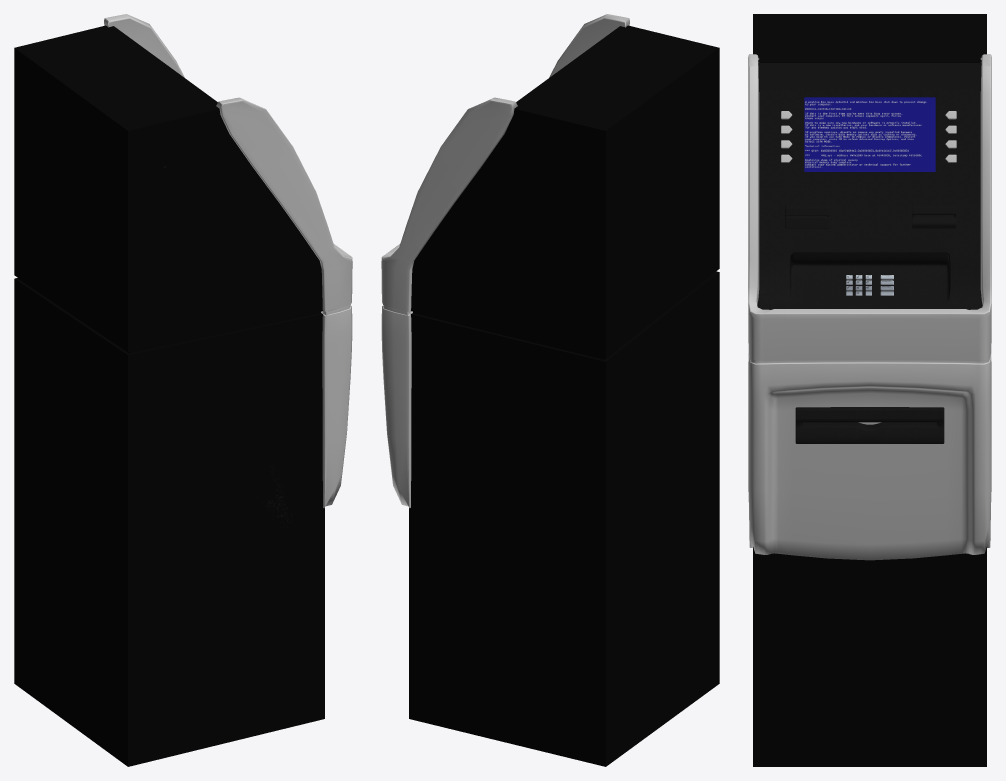
Rendered from ATM.obj.
3 views of the same model, side by side, from view 1: azimuth 30°, elevation 25°; view 2: azimuth 150°, elevation 25°; view 3: azimuth 270°, elevation 25° (orthographic). The views are drawn at different scales.
Visible parts, largest first — view 1: ATM; view 2: ATM; view 3: ATM.
Boxes of the visible parts, x1,y1,x2,y2 form: ATM: (14,14,352,766); ATM: (381,14,719,766); ATM: (748,14,991,766).
Bounding box in the file's own units: 3.7 × 10.05 × 3.36.
